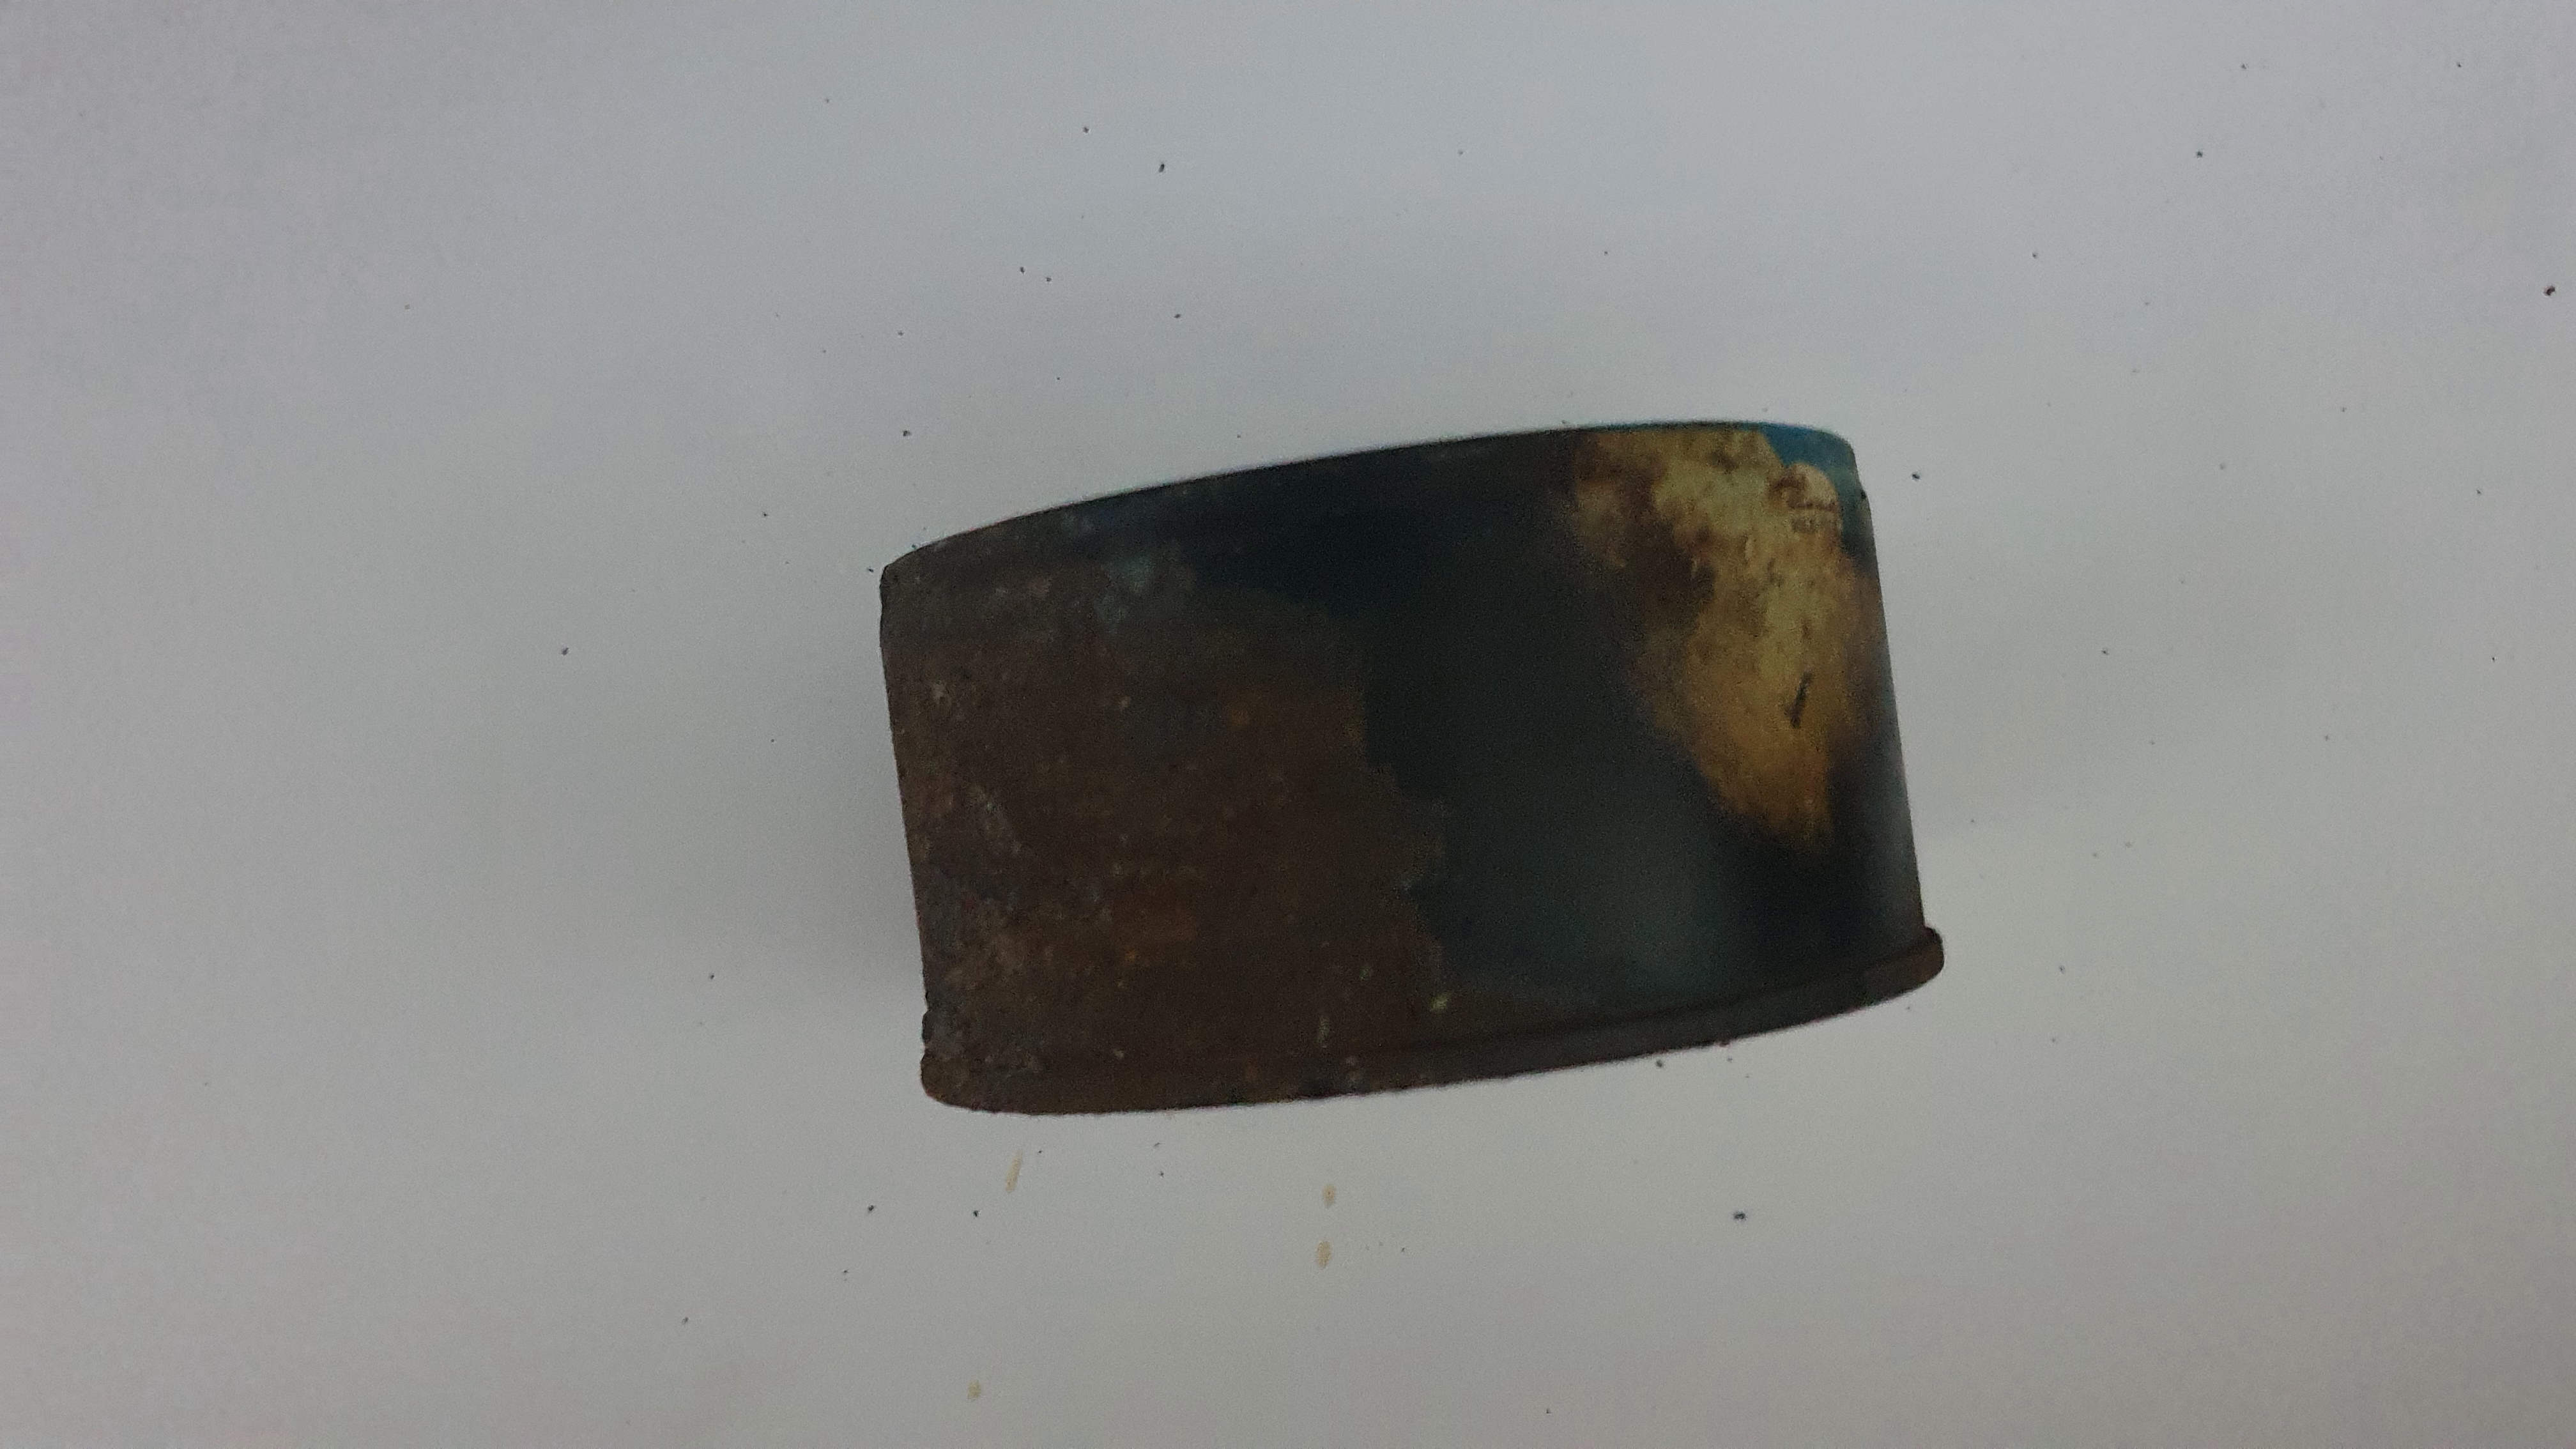metal: (796, 372, 2017, 1162)
